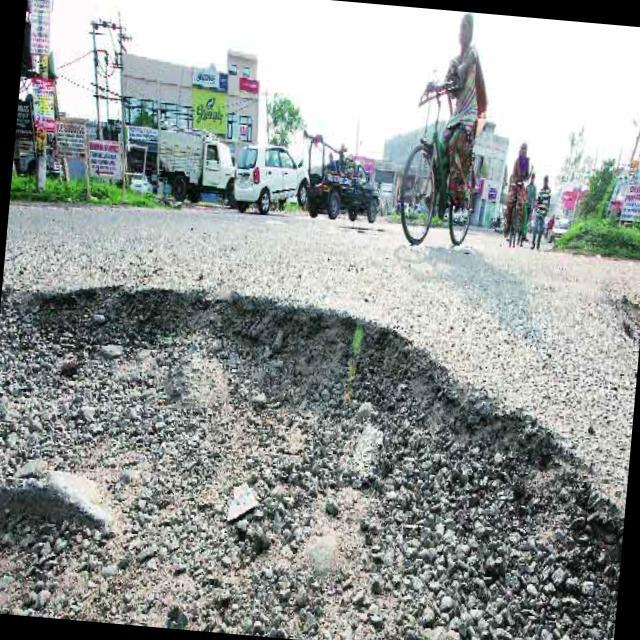Pothole: (0, 254, 640, 640), (602, 283, 640, 359)
